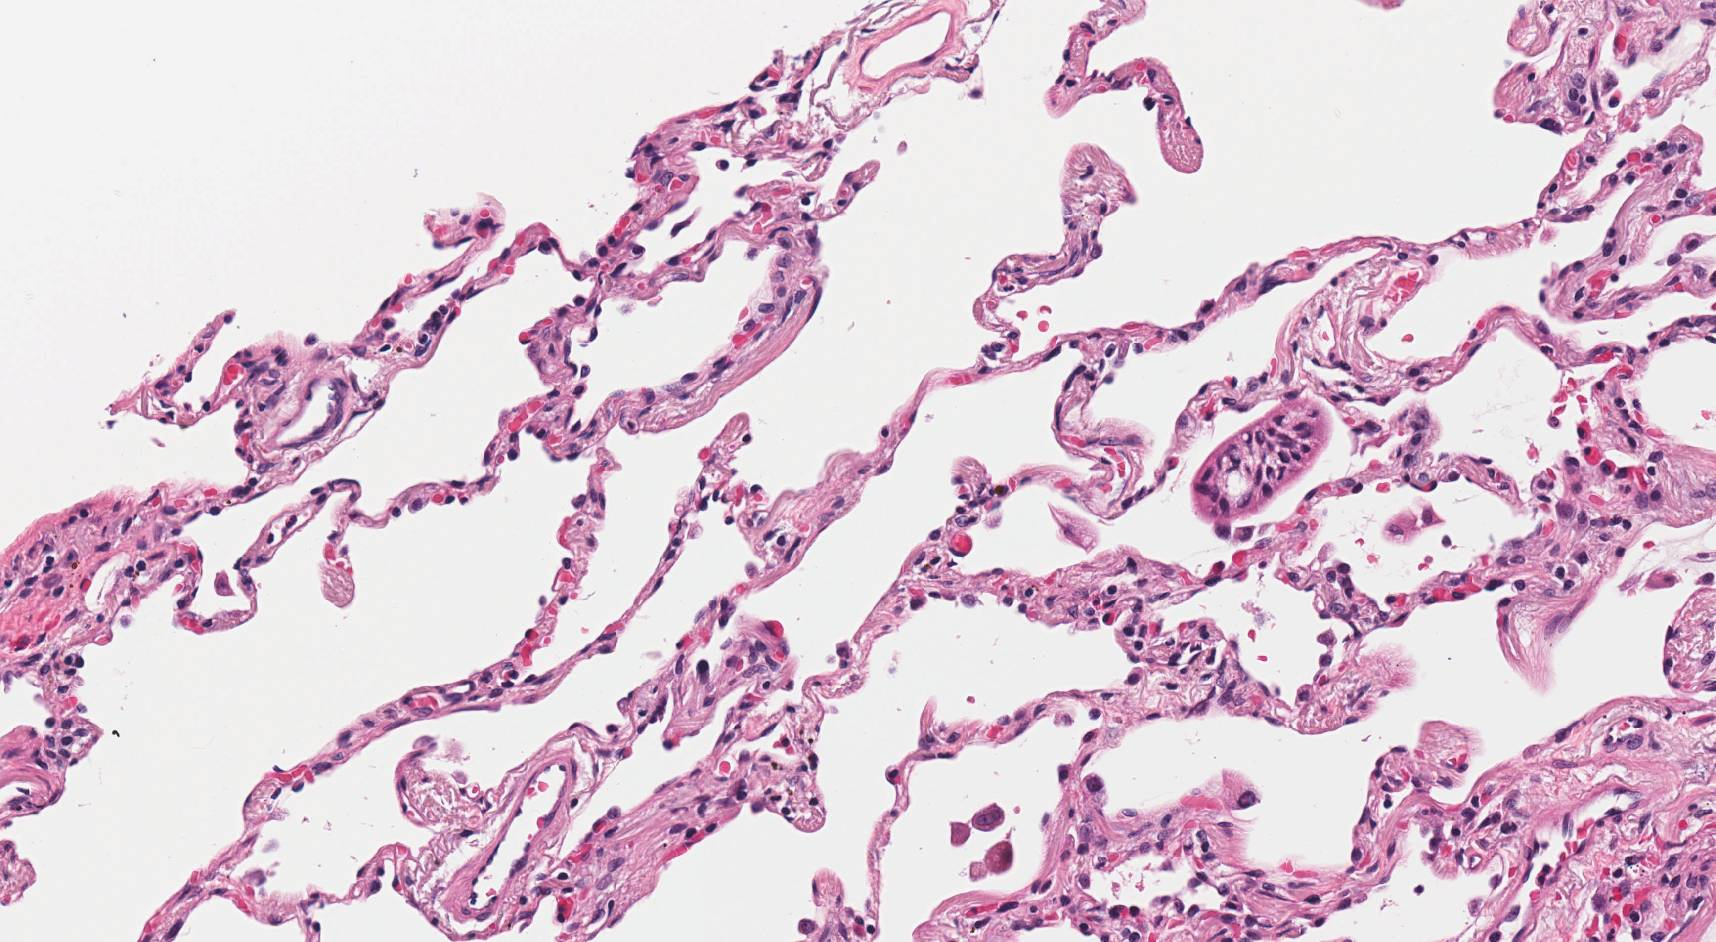stas: (1189, 401, 1333, 523)
